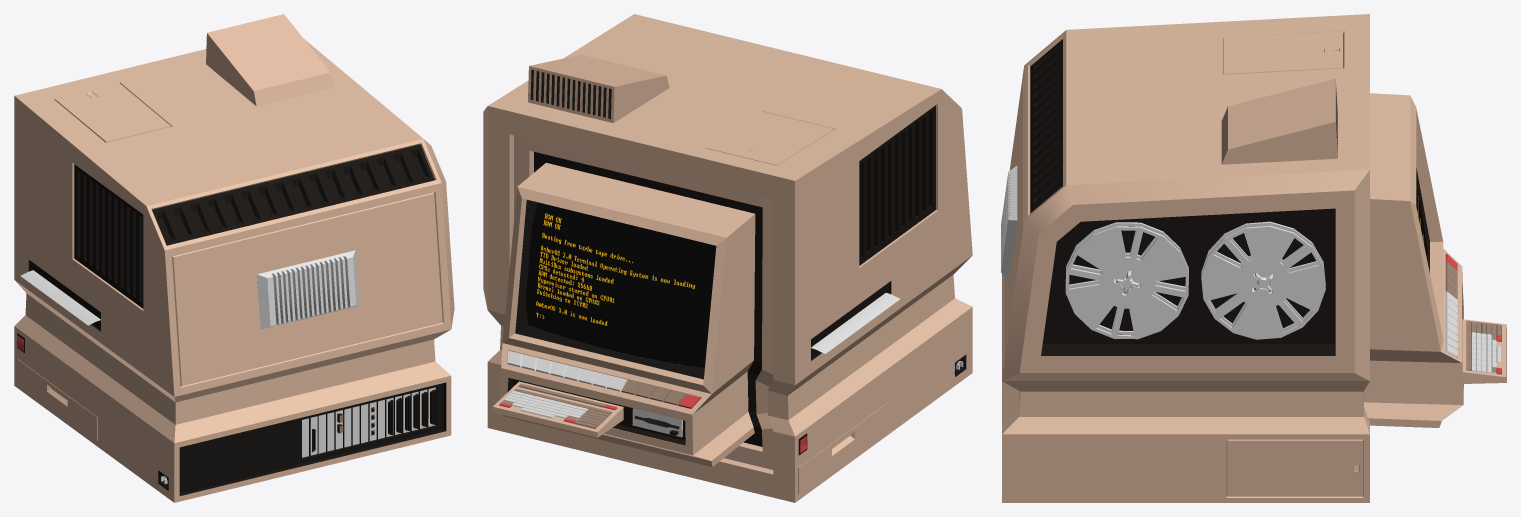
Rendered from computer.gltf.
The picture shows the model from 3 angles, left to right: view 1: azimuth 30°, elevation 25°; view 2: azimuth 150°, elevation 25°; view 3: azimuth 270°, elevation 25°; orthographic projection. The views are drawn at different scales.
Parts seen in each view (by area): view 1: Cube_0; view 2: Cube_0; view 3: Cube_0.
Boxes of the visible parts, x1,y1,x2,y2 form: Cube_0: [14, 14, 454, 502]; Cube_0: [483, 14, 972, 502]; Cube_0: [1001, 14, 1506, 502].
Bounding box in the file's own units: 0.6448 × 0.6732 × 0.8234.
8 materials, 1 textured.
